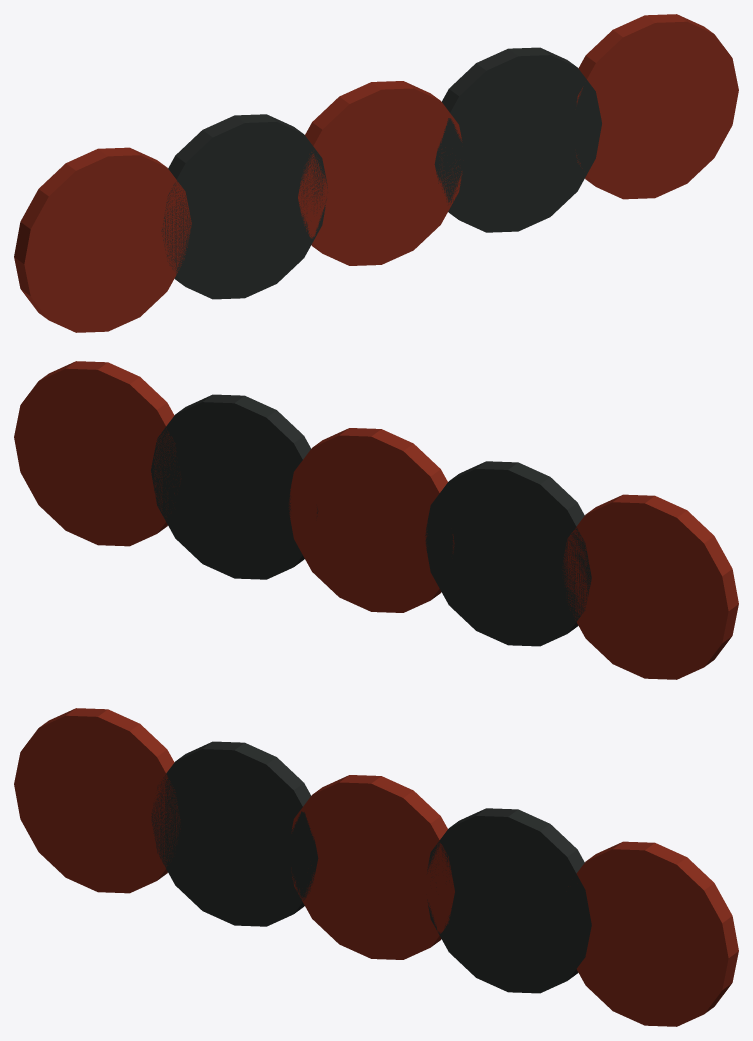
The model's file is shield_barricade_straight_LOD1.glb.
3 views of the same model, one above another, from view 1: azimuth 30°, elevation 25°; view 2: azimuth 150°, elevation 25°; view 3: azimuth 330°, elevation 25° (orthographic).
Visible parts, largest first — view 1: LOD1_Shield_ConvexDisk, LOD1_Shield_ConvexDisk.003, LOD1_Shield_ConvexDisk.001, LOD1_Shield_ConvexDisk.002, LOD1_Shield_ConvexDisk.004; view 2: LOD1_Shield_ConvexDisk, LOD1_Shield_ConvexDisk.001, LOD1_Shield_ConvexDisk.004, LOD1_Shield_ConvexDisk.003, LOD1_Shield_ConvexDisk.002; view 3: LOD1_Shield_ConvexDisk.001, LOD1_Shield_ConvexDisk, LOD1_Shield_ConvexDisk.004, LOD1_Shield_ConvexDisk.003, LOD1_Shield_ConvexDisk.002.
Part boxes in pixels (x1=…): LOD1_Shield_ConvexDisk: x1=14, y1=147, x2=191, y2=332; LOD1_Shield_ConvexDisk.003: x1=434, y1=47, x2=601, y2=232; LOD1_Shield_ConvexDisk.001: x1=161, y1=114, x2=327, y2=299; LOD1_Shield_ConvexDisk.002: x1=298, y1=81, x2=462, y2=265; LOD1_Shield_ConvexDisk.004: x1=576, y1=14, x2=738, y2=199; LOD1_Shield_ConvexDisk: x1=562, y1=494, x2=738, y2=679; LOD1_Shield_ConvexDisk.001: x1=425, y1=461, x2=591, y2=646; LOD1_Shield_ConvexDisk.004: x1=14, y1=361, x2=181, y2=546; LOD1_Shield_ConvexDisk.003: x1=151, y1=394, x2=318, y2=579; LOD1_Shield_ConvexDisk.002: x1=288, y1=428, x2=454, y2=612; LOD1_Shield_ConvexDisk.001: x1=151, y1=741, x2=318, y2=926; LOD1_Shield_ConvexDisk: x1=14, y1=708, x2=180, y2=893; LOD1_Shield_ConvexDisk.004: x1=568, y1=841, x2=738, y2=1026; LOD1_Shield_ConvexDisk.003: x1=427, y1=808, x2=591, y2=993; LOD1_Shield_ConvexDisk.002: x1=291, y1=775, x2=454, y2=959.
Bounding box in the file's own units: 4.18 × 0.98 × 0.105.
